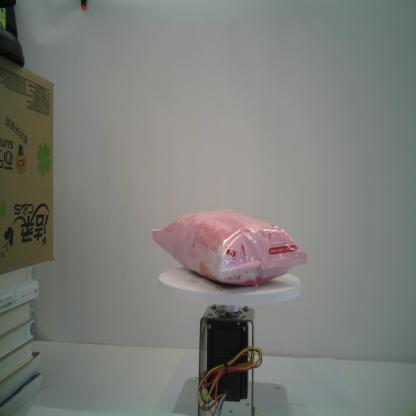Puffed Food: (151, 206, 307, 284)
